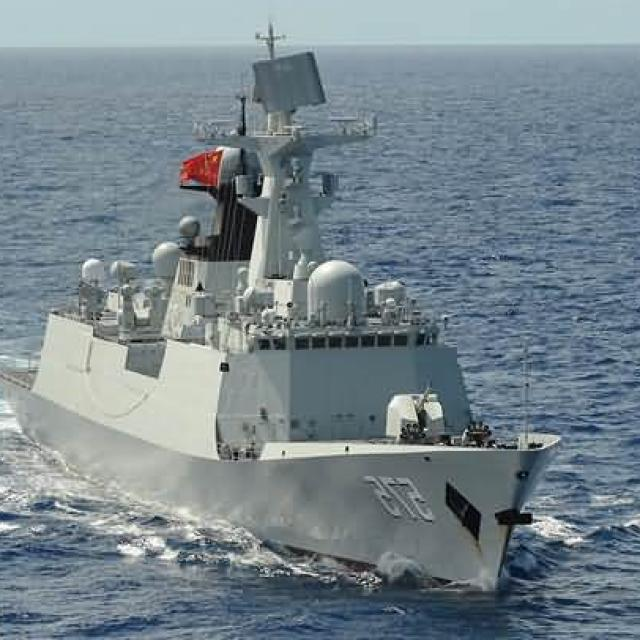navalvessels: (10, 29, 561, 586)
